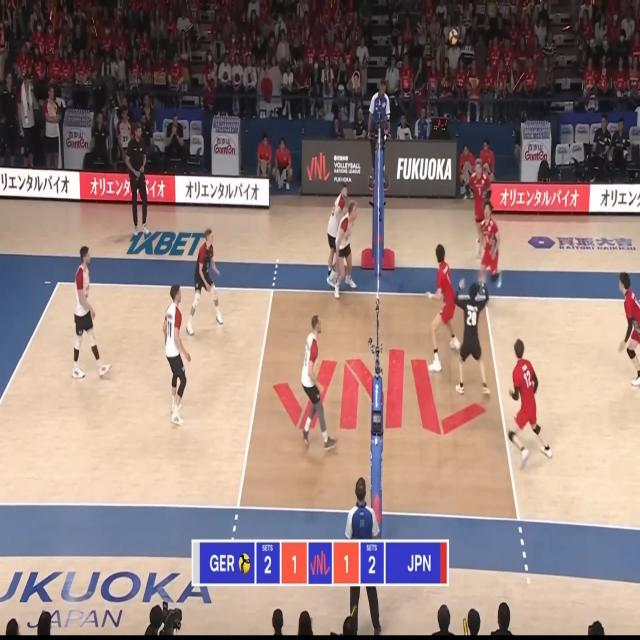ball: (449, 29, 458, 45)
